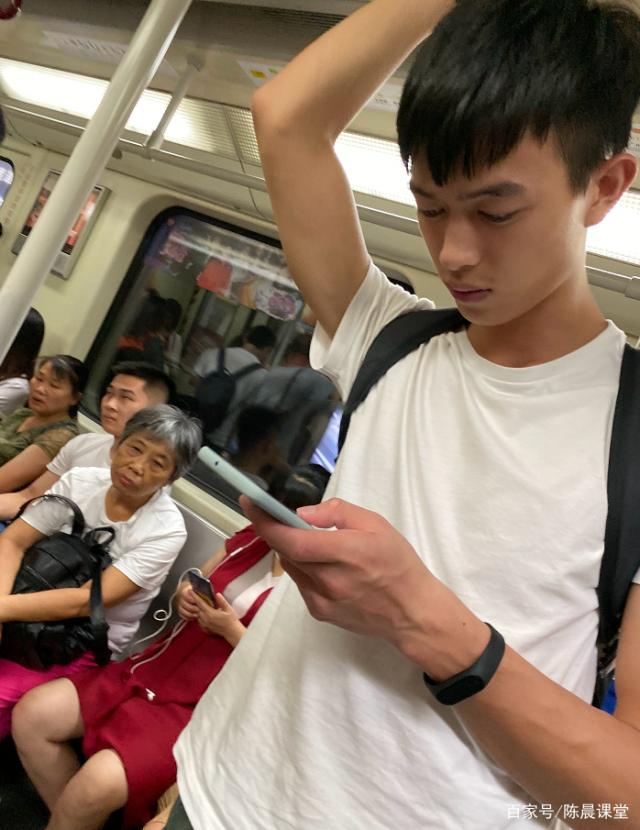person: (227, 7, 640, 830)
